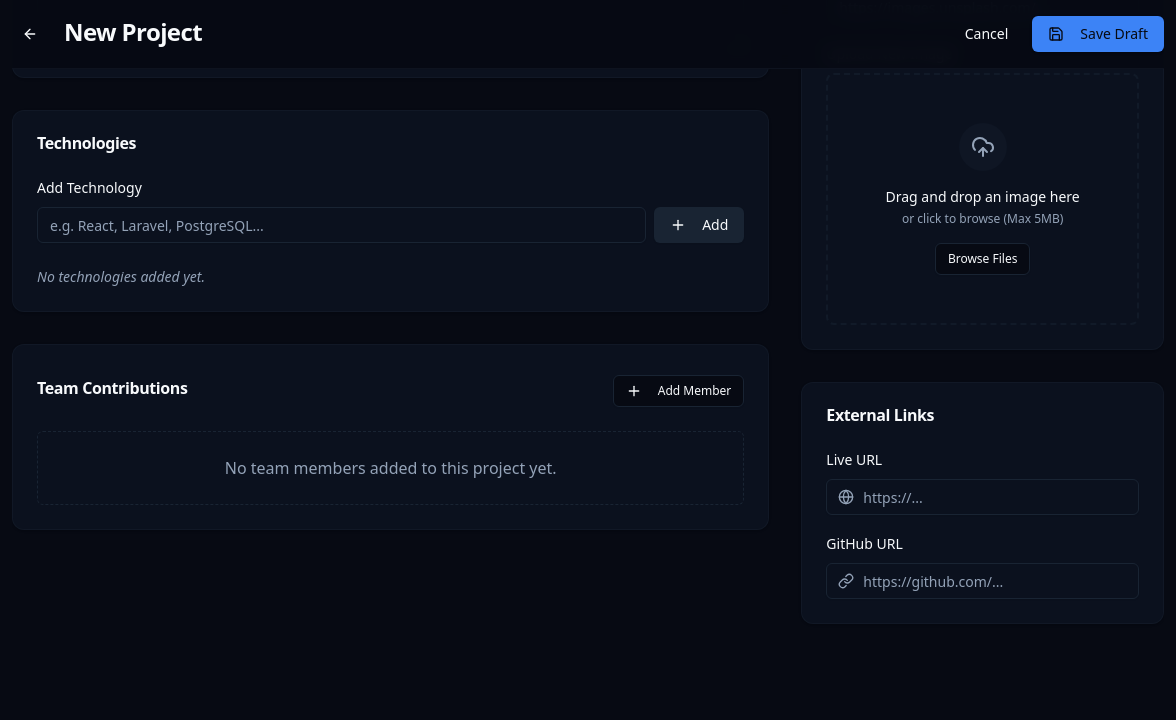
it: ProjectEditor › prevents duplicate team members
(page scrolled)
// Add two member slots
Click the button "Add Member": (679, 391) [613, 375, 744, 407]
(page scrolled)
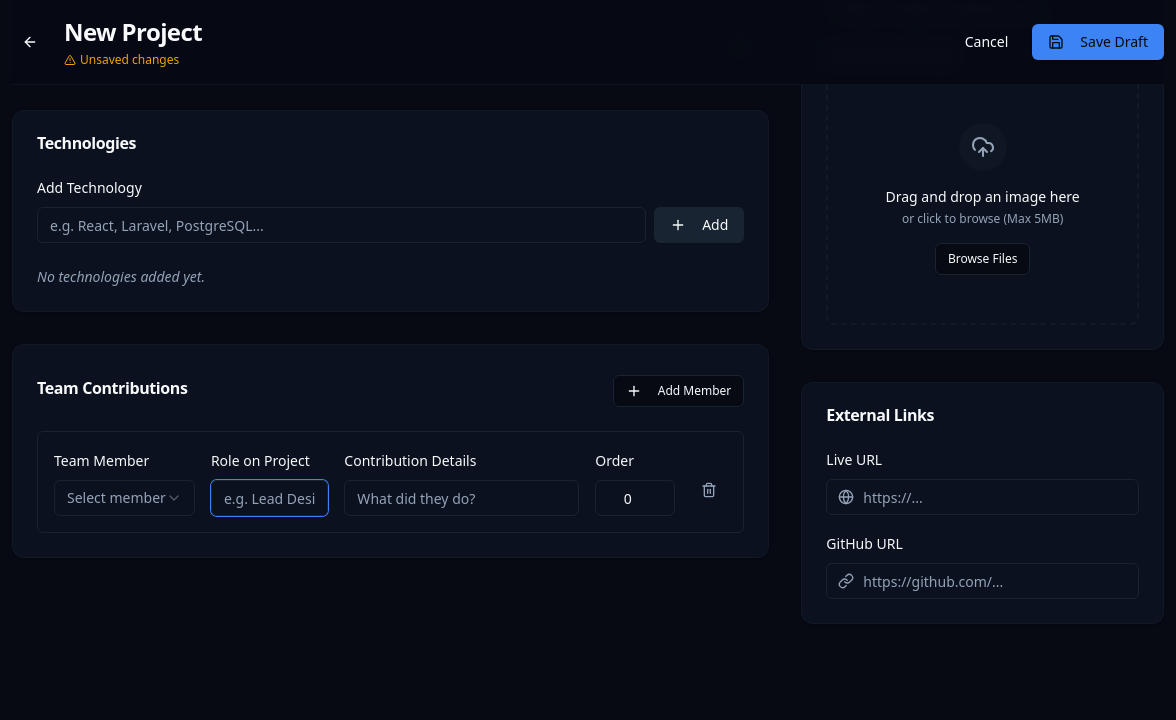
Click the button "Add Member": (679, 391) [613, 375, 744, 407]
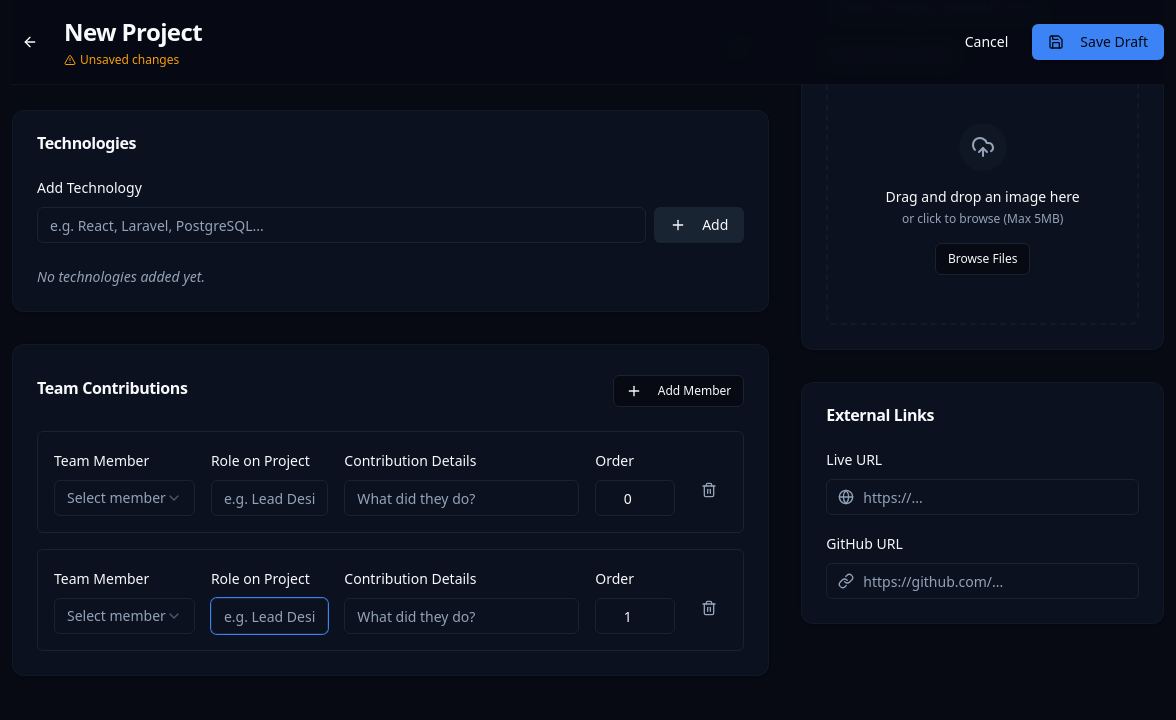
Now the number of dropdowns is 2, box [54, 480, 195, 516]; [54, 598, 195, 634]
